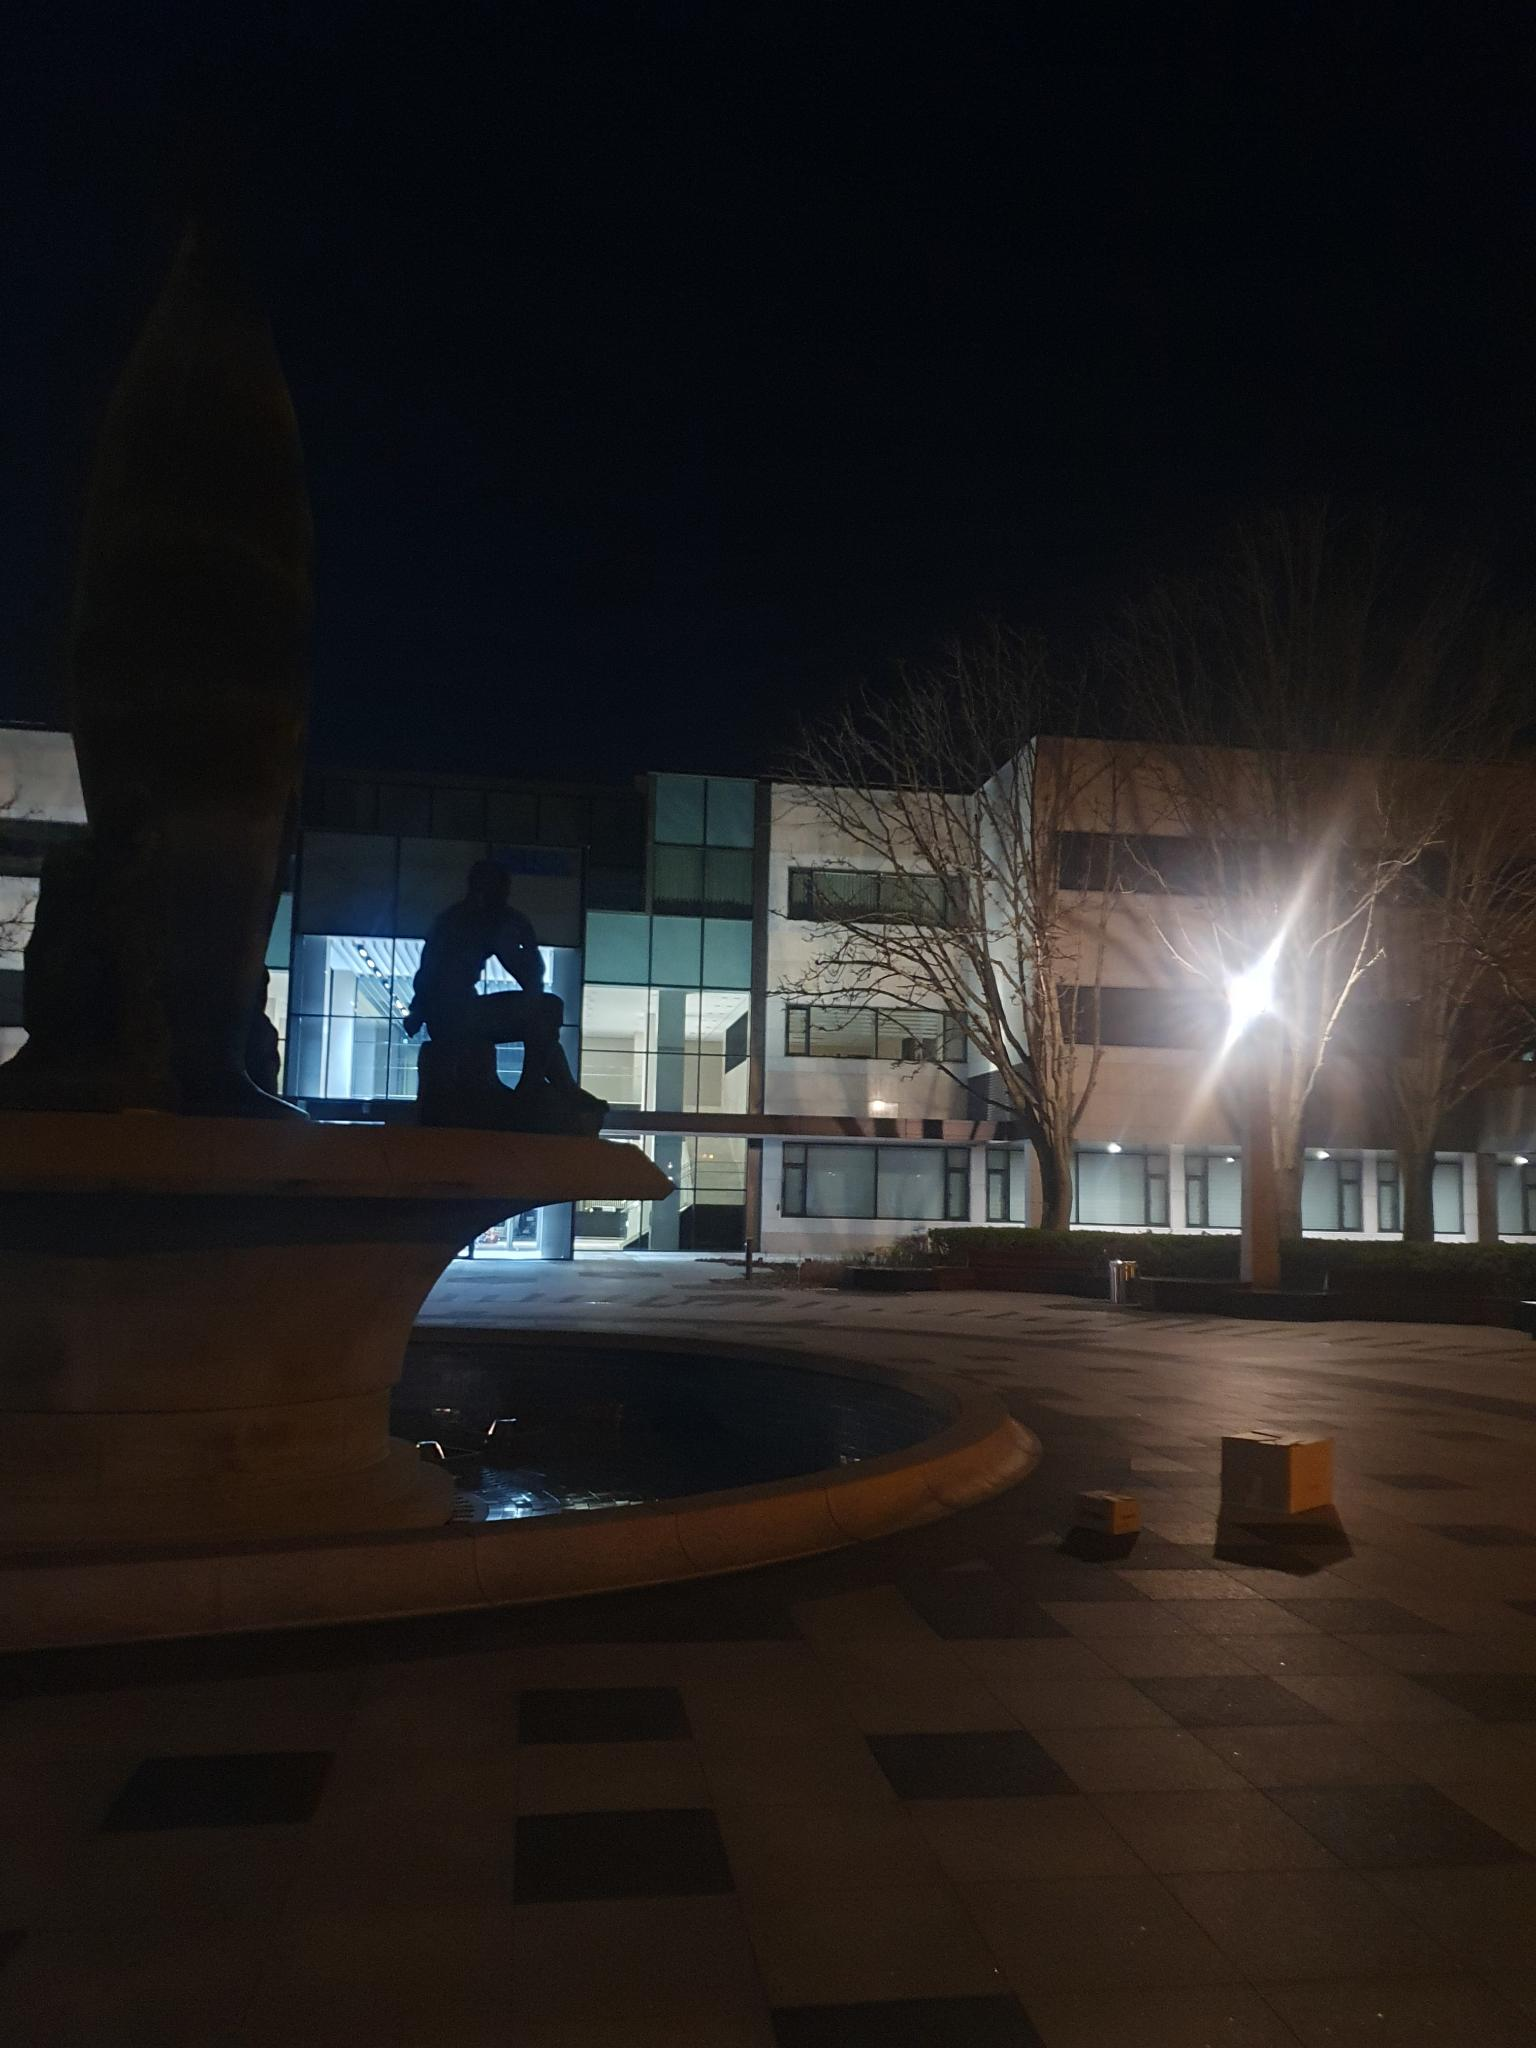Box: (1207, 1422, 1341, 1555), (1060, 1466, 1155, 1563)
